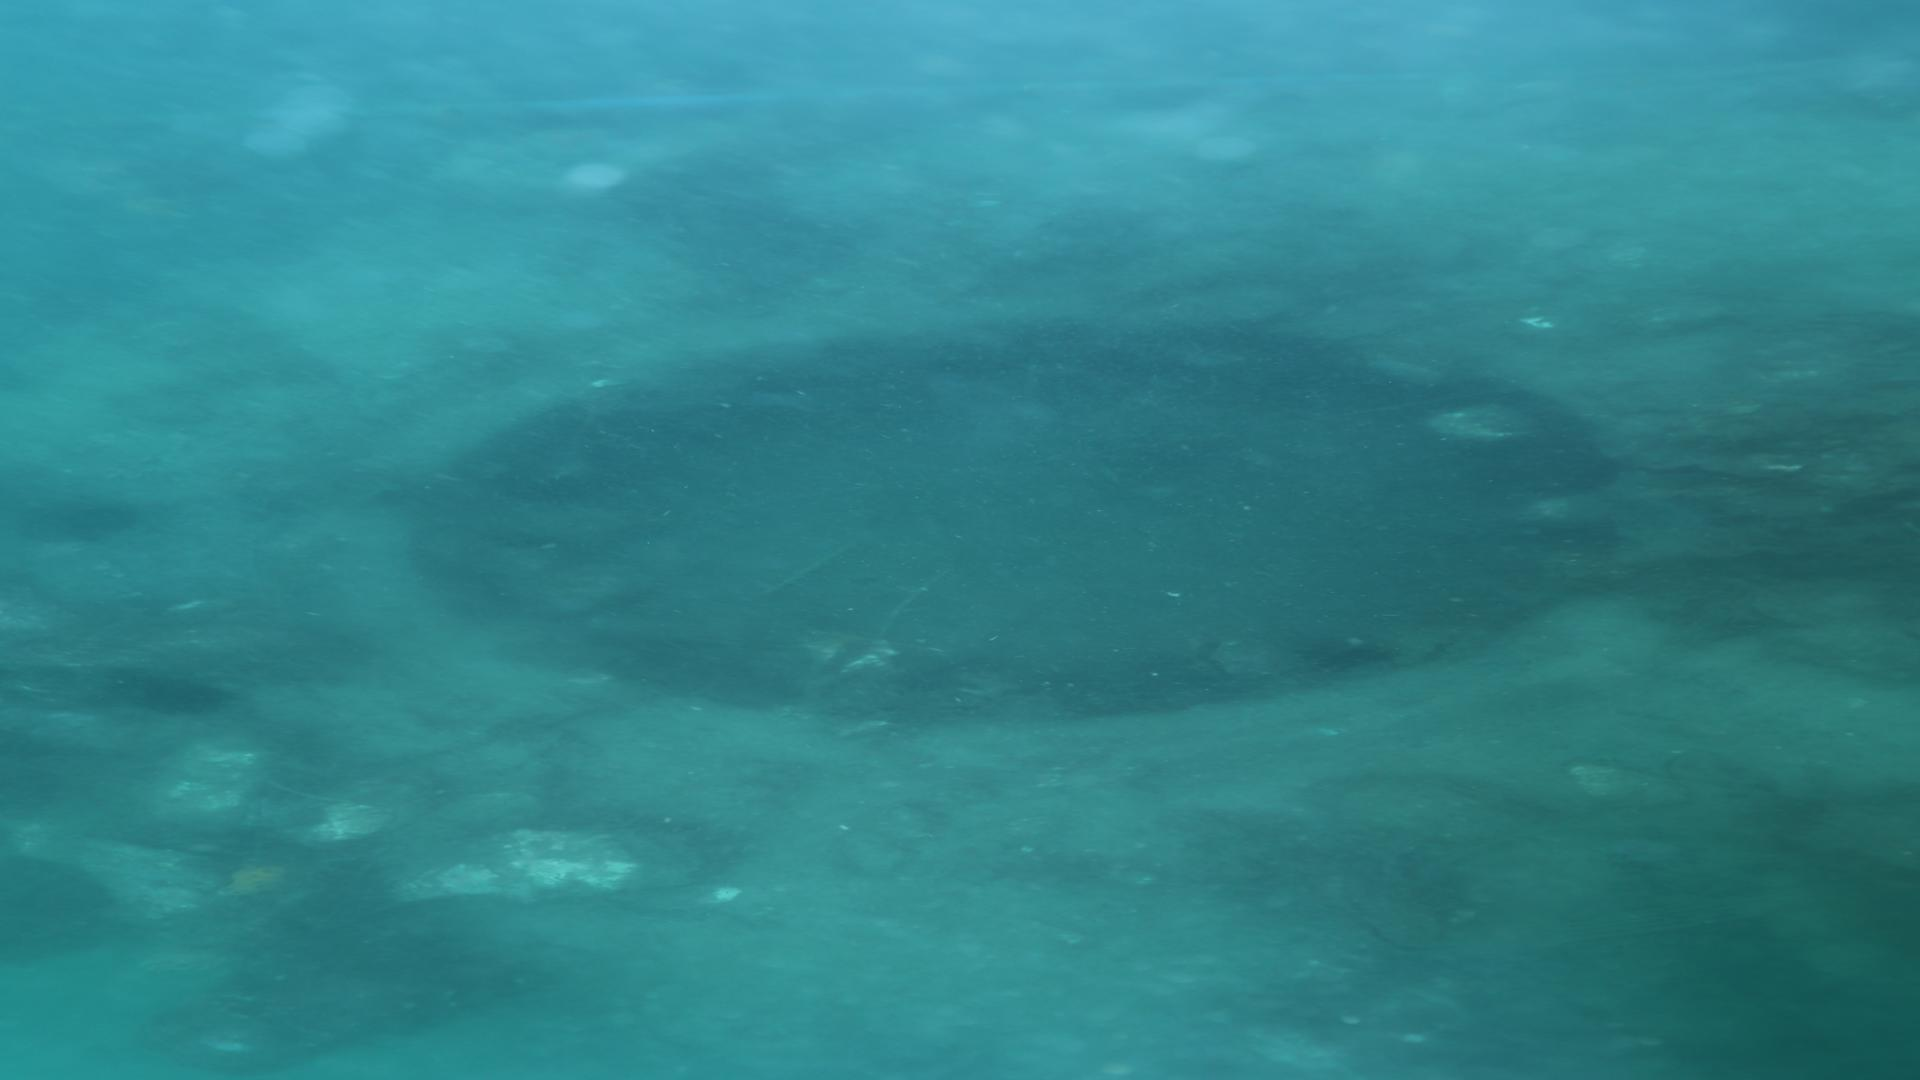tire: (0, 90, 1920, 992)
